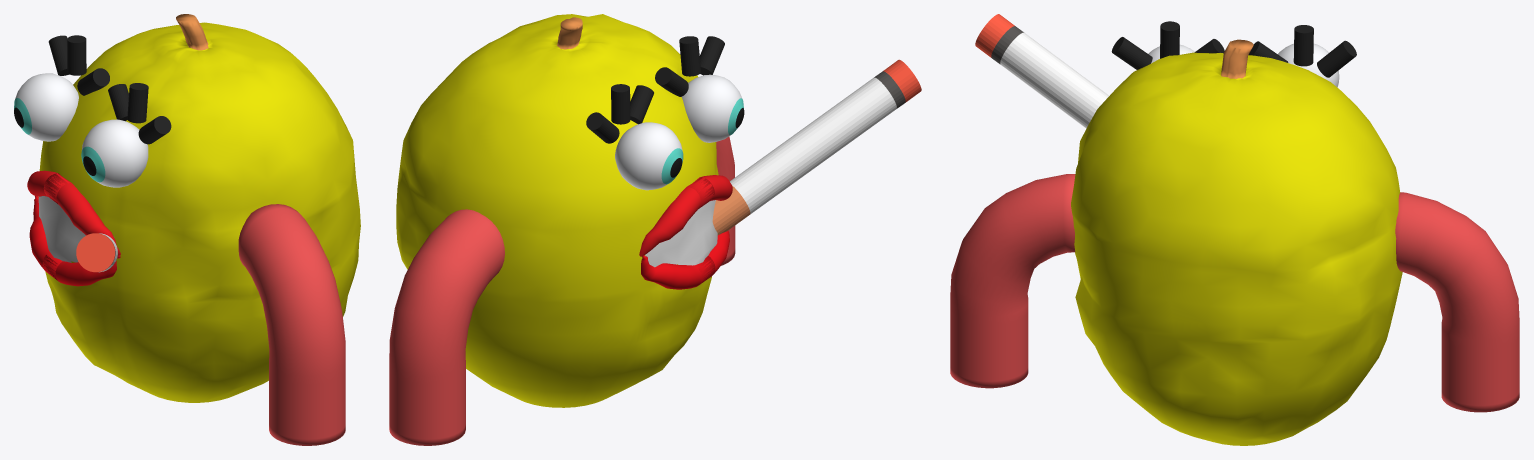
File: mango.dae
The picture shows the model from 3 angles, left to right: view 1: azimuth 30°, elevation 25°; view 2: azimuth 150°, elevation 25°; view 3: azimuth 270°, elevation 25°; orthographic projection. The views are drawn at different scales.
Parts seen in each view (by area): view 1: Cylinder, Cylinder.009, Sphere.001, Cylinder.006, Cylinder.010; view 2: Cylinder, Cylinder.008, Cylinder.010, Sphere.001, Cylinder.006, Cylinder.009; view 3: Cylinder, Cylinder.008, Cylinder.009, Cylinder.010, Cylinder.006, Sphere.001.
Boxes of the visible parts, bbox=[...] form: Cylinder: bbox=[27, 14, 360, 402]; Cylinder.009: bbox=[238, 204, 345, 445]; Sphere.001: bbox=[14, 73, 148, 187]; Cylinder.006: bbox=[48, 35, 171, 144]; Cylinder.010: bbox=[76, 233, 117, 272]; Cylinder: bbox=[396, 14, 732, 407]; Cylinder.008: bbox=[389, 209, 504, 445]; Cylinder.010: bbox=[712, 59, 921, 235]; Sphere.001: bbox=[615, 74, 744, 190]; Cylinder.006: bbox=[586, 36, 724, 143]; Cylinder.009: bbox=[716, 136, 735, 265]; Cylinder: bbox=[1071, 39, 1402, 445]; Cylinder.008: bbox=[1395, 192, 1519, 412]; Cylinder.009: bbox=[950, 174, 1075, 388]; Cylinder.010: bbox=[975, 14, 1108, 128]; Cylinder.006: bbox=[1111, 21, 1356, 77]; Sphere.001: bbox=[1148, 43, 1339, 87].
Size of the model in its own units: 4.78 by 6.05 by 4.51.
